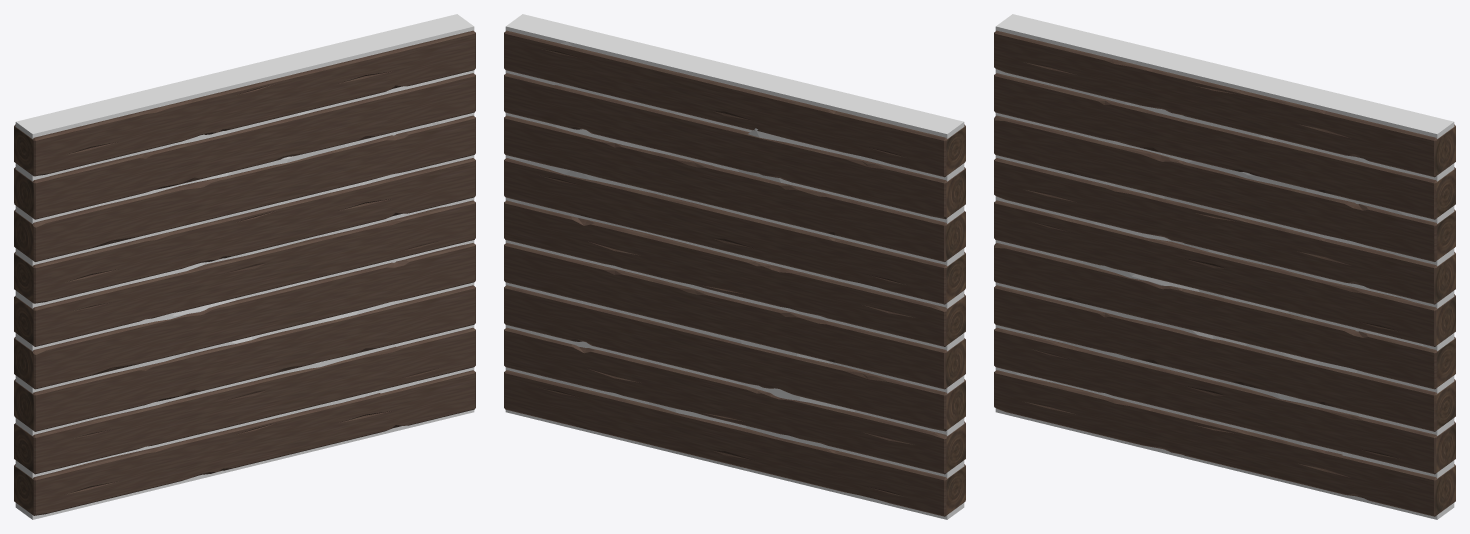
The model's file is log_wall.fbx.
3 renders of one model, left to right at view 1: azimuth 30°, elevation 25°; view 2: azimuth 150°, elevation 25°; view 3: azimuth 330°, elevation 25°, orthographic.
Visible parts, largest first — view 1: Support, Log.004, Log.005, Log.008, Log.007, Log, Log.001, Log.003, Log.006, Log.002; view 2: Support, Log.004, Log.003, Log.008, Log.006, Log, Log.005, Log.002, Log.007, Log.001; view 3: Support, Log.004, Log.005, Log.008, Log.007, Log, Log.001, Log.003, Log.006, Log.002.
Part boxes in pixels (left/top/right/bottom): Support: left=15, top=14, right=474, bottom=519; Log.004: left=14, top=200, right=475, bottom=346; Log.005: left=14, top=158, right=475, bottom=303; Log.008: left=14, top=30, right=475, bottom=176; Log.007: left=14, top=73, right=475, bottom=219; Log: left=14, top=370, right=475, bottom=515; Log.001: left=14, top=327, right=475, bottom=474; Log.003: left=14, top=243, right=475, bottom=389; Log.006: left=14, top=115, right=475, bottom=261; Log.002: left=14, top=285, right=475, bottom=431; Support: left=505, top=14, right=964, bottom=519; Log.004: left=504, top=200, right=965, bottom=346; Log.003: left=504, top=243, right=965, bottom=389; Log.008: left=504, top=30, right=965, bottom=177; Log.006: left=504, top=115, right=965, bottom=261; Log: left=504, top=370, right=965, bottom=516; Log.005: left=504, top=158, right=965, bottom=304; Log.002: left=504, top=285, right=965, bottom=431; Log.007: left=504, top=73, right=965, bottom=219; Log.001: left=504, top=327, right=965, bottom=474; Support: left=995, top=14, right=1454, bottom=519; Log.004: left=994, top=200, right=1455, bottom=346; Log.005: left=994, top=158, right=1455, bottom=304; Log.008: left=994, top=30, right=1455, bottom=177; Log.007: left=994, top=73, right=1455, bottom=219; Log: left=994, top=370, right=1455, bottom=516; Log.001: left=994, top=327, right=1455, bottom=474; Log.003: left=994, top=243, right=1455, bottom=389; Log.006: left=994, top=115, right=1455, bottom=261; Log.002: left=994, top=285, right=1455, bottom=431.
Bounding box in the file's own units: 1200 × 1000 × 100.
Materials: 2 (1 with a texture image).
